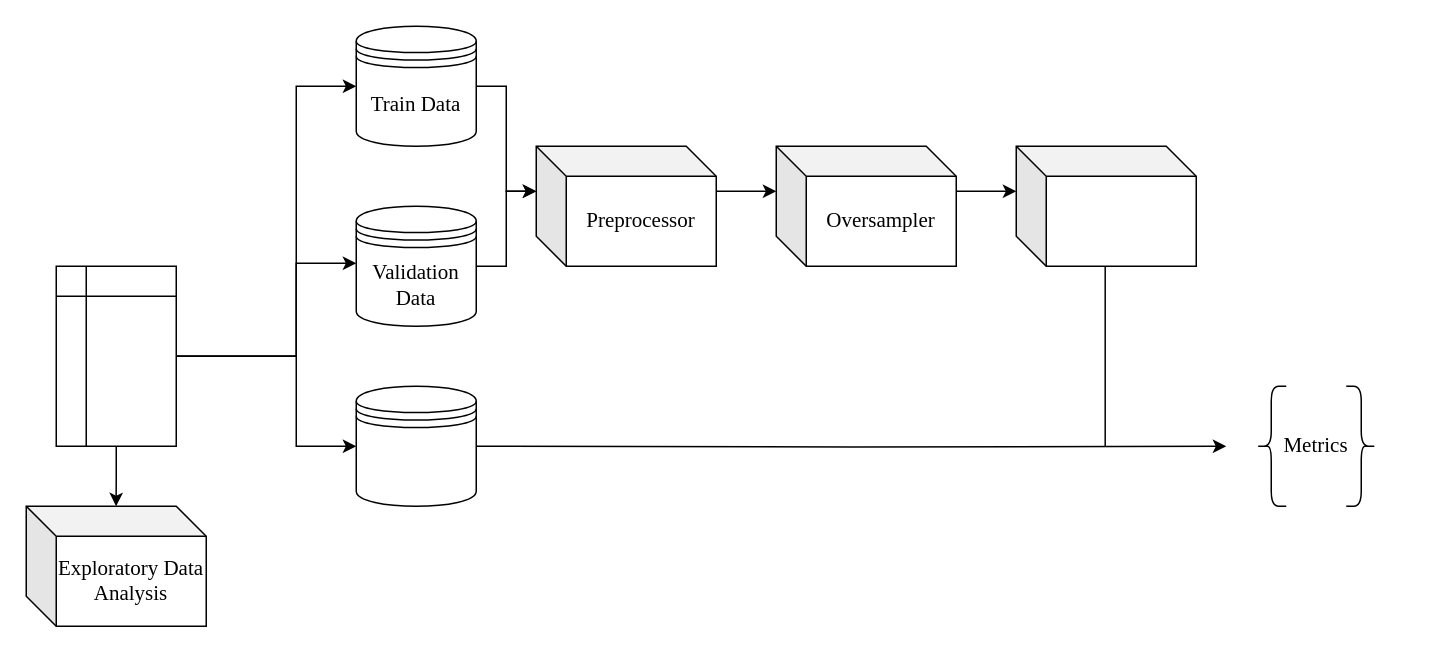
The diagram is 1433 pixels wide and 653 high, and some of its shapes have lost their labels. Each missing label, with the box of its shape:
Dataset: (55, 265, 176, 446)
Test Data: (355, 385, 476, 506)
Trained Model: (1015, 145, 1196, 266)
